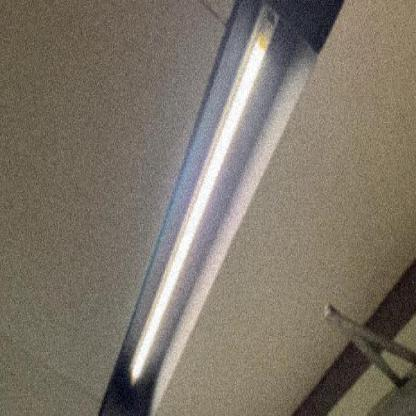light_on: (123, 2, 288, 394)
